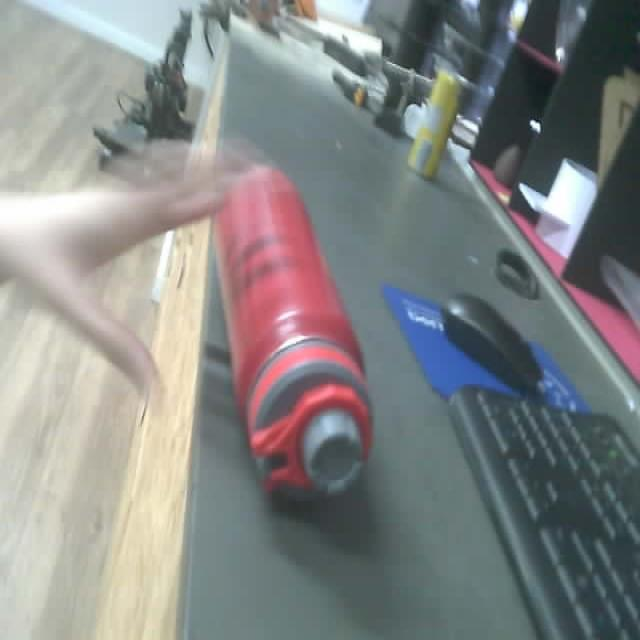water bottle: (210, 156, 376, 504)
